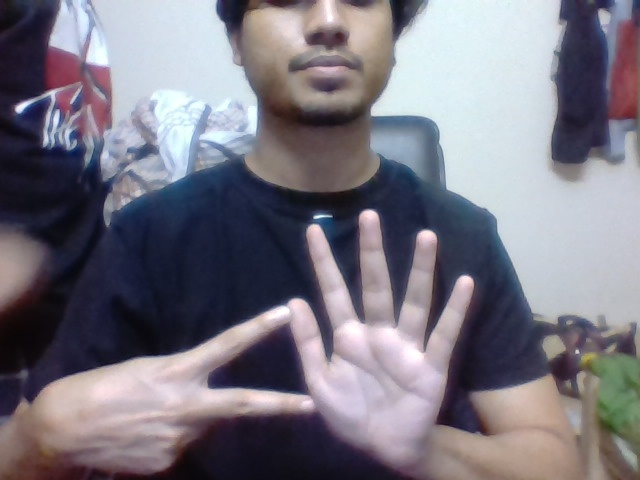N: (196, 301, 289, 423)
